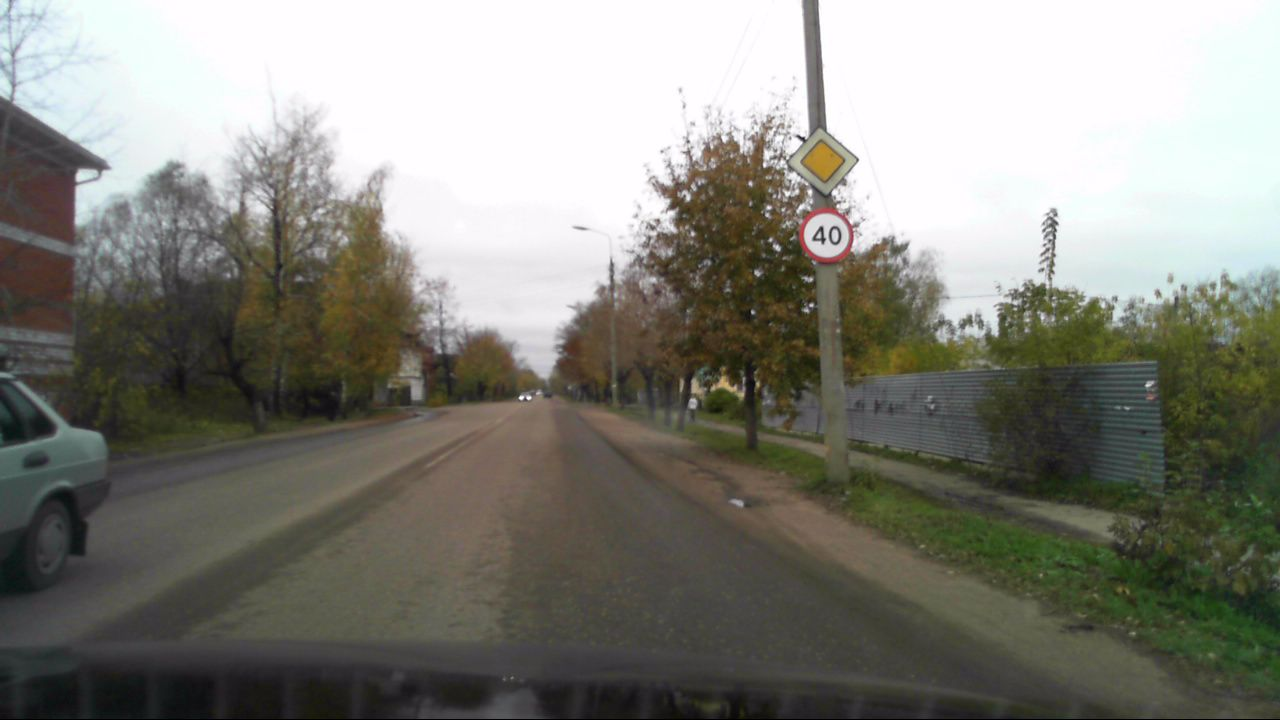speed_warning_40: (795, 209, 853, 263)
